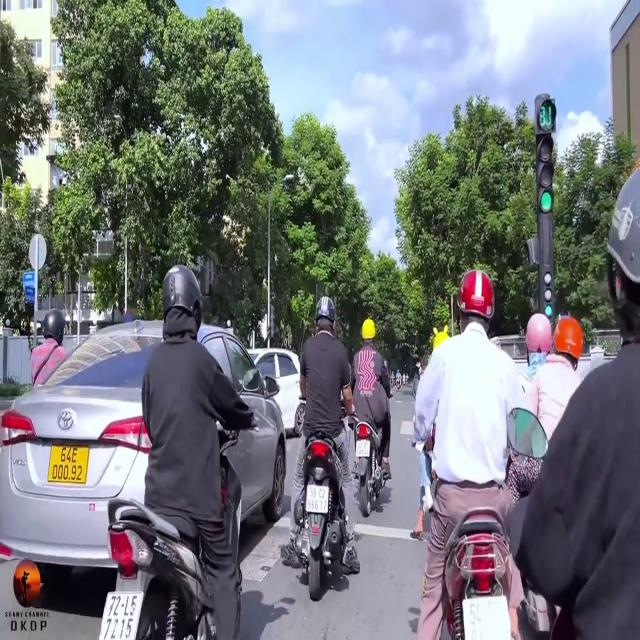bien_trang: (95, 587, 142, 640), (304, 480, 329, 513)
bien_vang: (44, 437, 89, 480)
